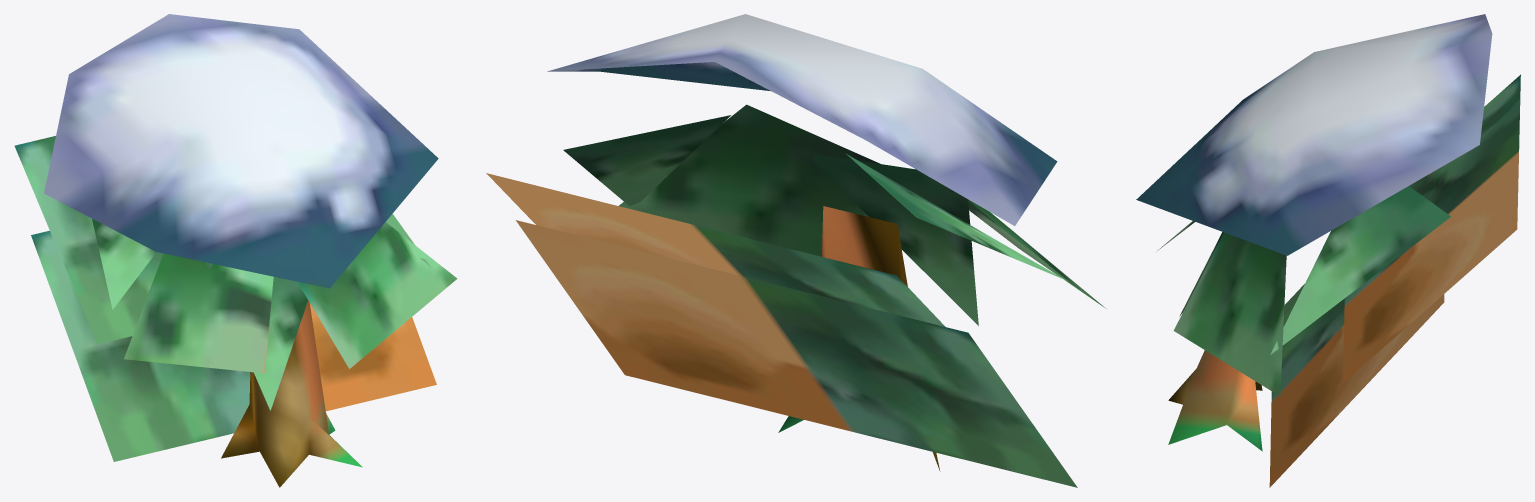
The model's file is fg_bushD_1_s.dae.
3 renders of one model, left to right at view 1: azimuth 30°, elevation 25°; view 2: azimuth 150°, elevation 25°; view 3: azimuth 270°, elevation 25°, orthographic. The views are drawn at different scales.
Parts seen in each view (by area): view 1: fg_bushD_1_s; view 2: fg_bushD_1_s; view 3: fg_bushD_1_s.
Boxes of the visible parts, x1,y1,x2,y2 form: fg_bushD_1_s: (14,14,457,487); fg_bushD_1_s: (486,14,1105,487); fg_bushD_1_s: (1136,14,1520,487).
Size of the model in its own units: 30.89 by 29.19 by 26.27.
Materials: 1 (1 with a texture image).
